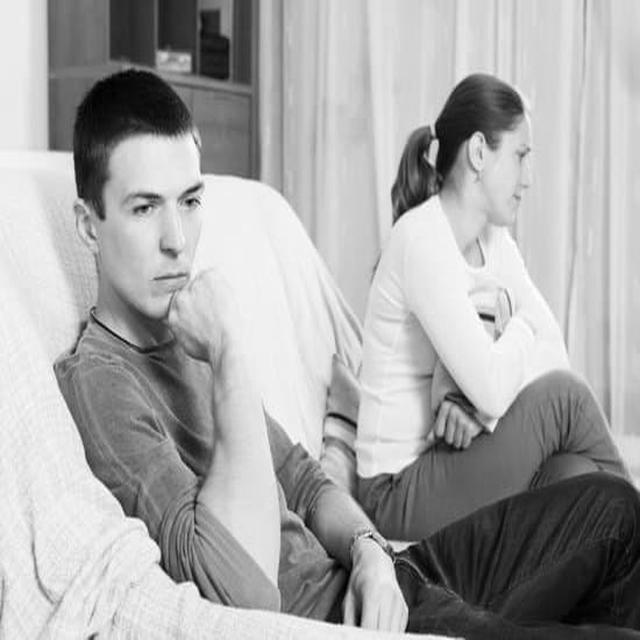Sadness: (119, 136, 202, 308)
